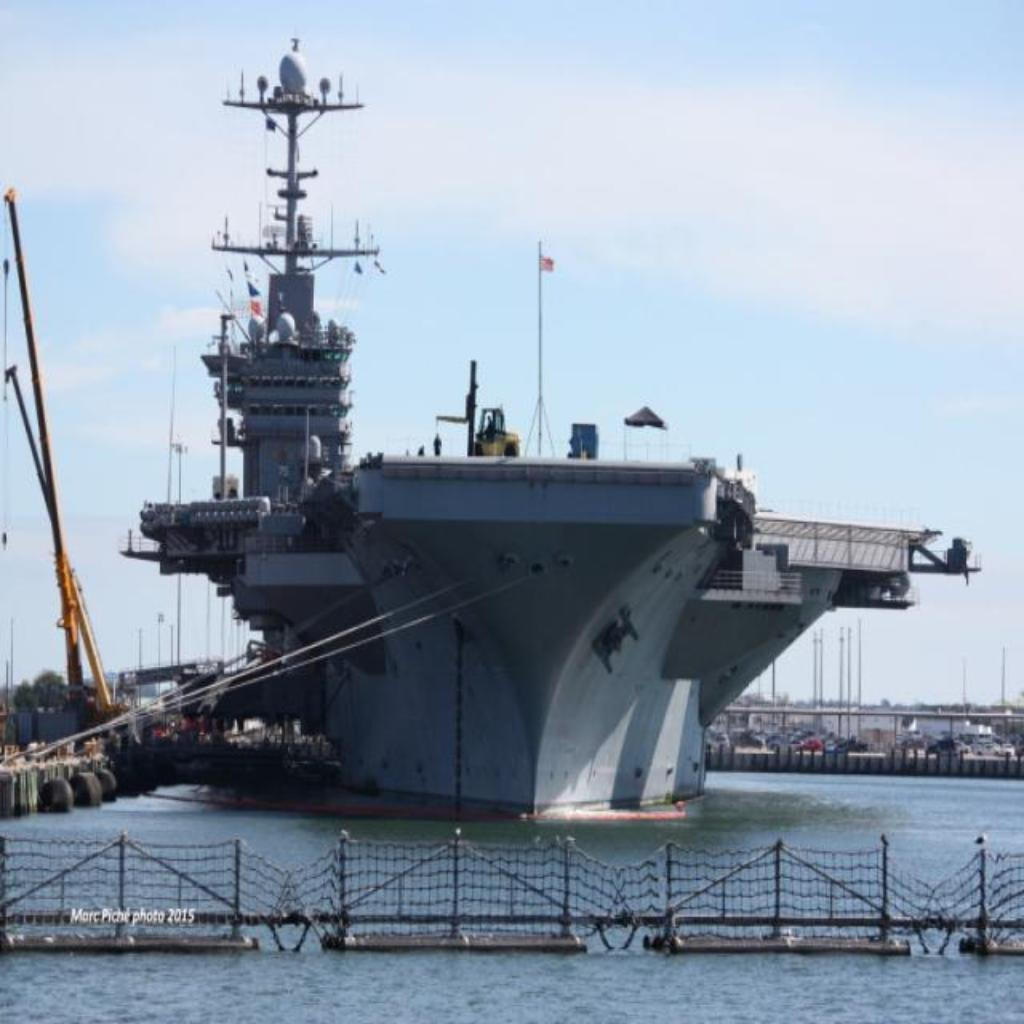Warship: (118, 29, 982, 819)
